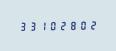eight: (67, 19, 76, 30)
one: (37, 20, 46, 31)
three: (17, 20, 26, 31), (27, 20, 36, 31)
two: (87, 19, 96, 30), (57, 20, 66, 30)
zero: (47, 20, 56, 31), (77, 19, 86, 30)
